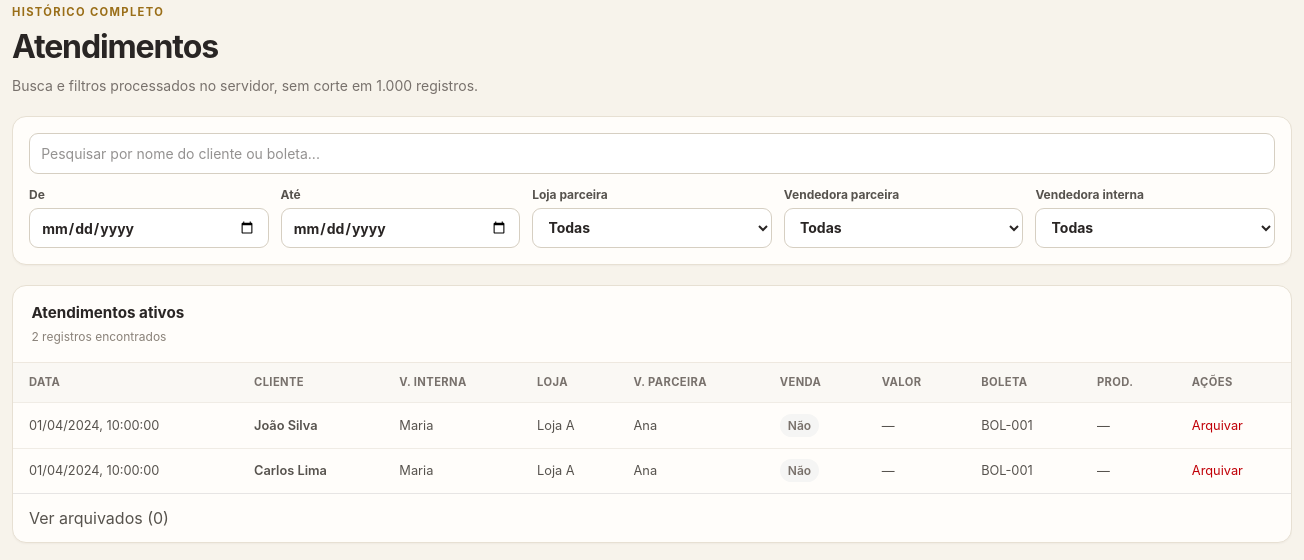
Test: TabAtendimentos (PDV) › busca filtra por nome do cliente
Expected: the text "João Silva" is shown, [238,402,383,448]
Type "João" into the field with placeholder "Pesquisar por nome do cliente ou boleta..." at (652,154), box [29,133,1275,174]
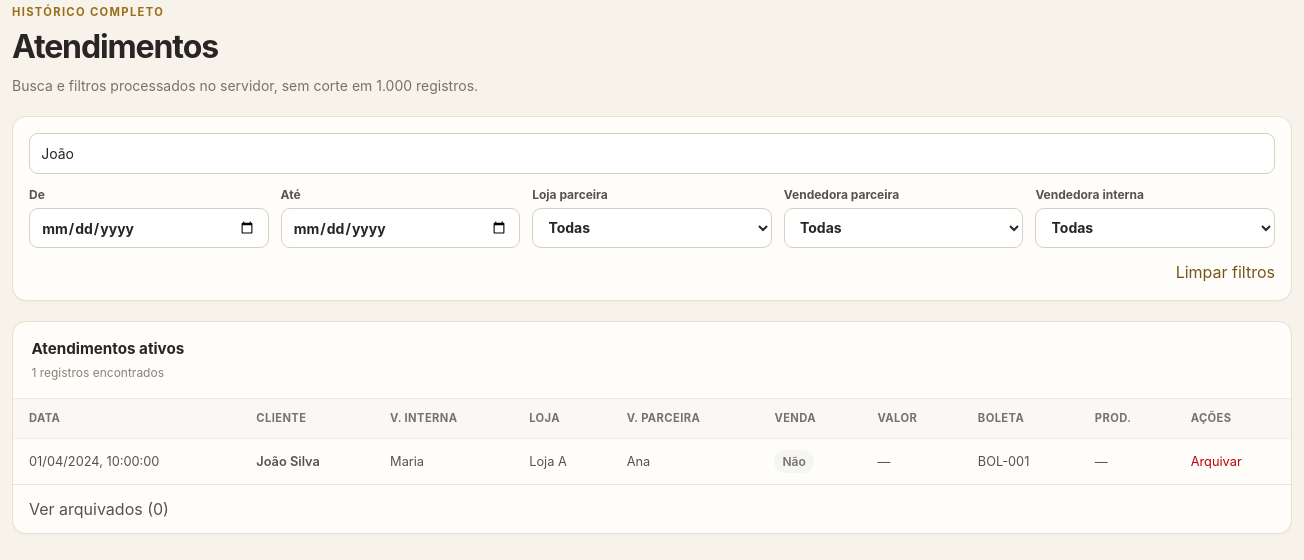
Expected: the text "João Silva" is shown, [240,438,374,484]
Result: the text "Carlos Lima" is gone
